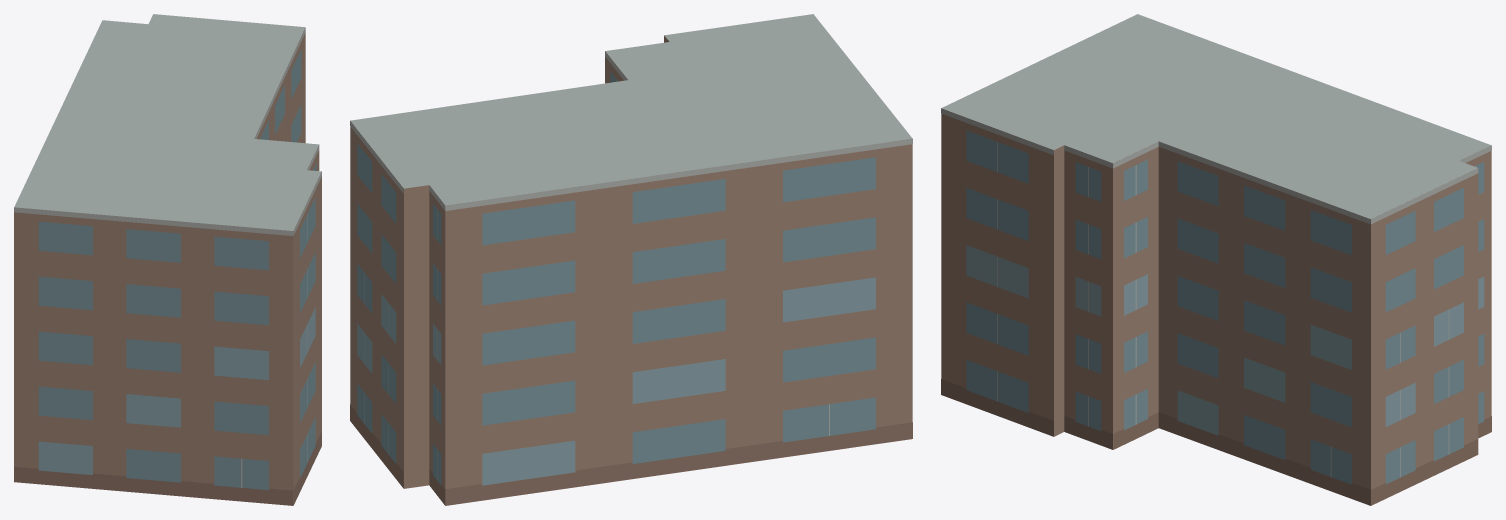
File: survey-upis-32533116.glb
3 views of the same model, side by side, from view 1: azimuth 30°, elevation 25°; view 2: azimuth 150°, elevation 25°; view 3: azimuth 270°, elevation 25° (orthographic). The views are drawn at different scales.
Parts seen in each view (by area): view 1: survey-upis-32533116.tmp; view 2: survey-upis-32533116.tmp; view 3: survey-upis-32533116.tmp.
Boxes of the visible parts, x1,y1,x2,y2 form: survey-upis-32533116.tmp: [14, 14, 321, 505]; survey-upis-32533116.tmp: [350, 14, 912, 505]; survey-upis-32533116.tmp: [941, 14, 1491, 505].
Size of the model in its own units: 20.58 by 13.4 by 23.34.
